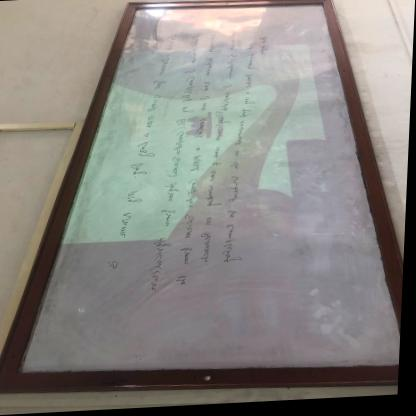Handwritten text: (98, 26, 181, 281), (141, 29, 205, 300), (171, 30, 222, 290), (198, 51, 242, 273), (221, 43, 259, 277)
Whiteboard: (16, 1, 402, 378)
